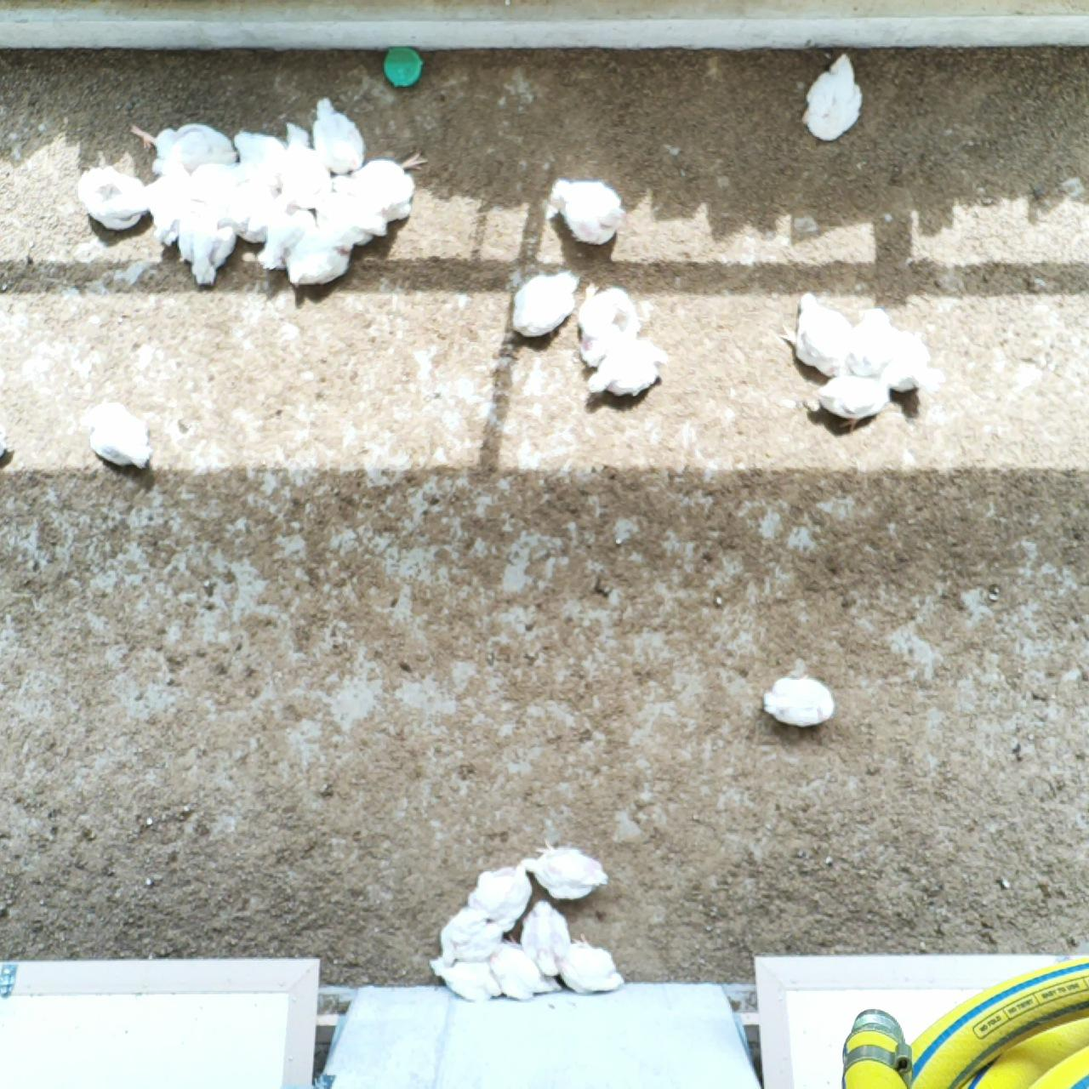chicken: (846, 305, 949, 399), (799, 365, 903, 436), (517, 835, 614, 905), (336, 149, 433, 217), (801, 50, 869, 146), (777, 287, 850, 376), (76, 393, 158, 471), (547, 175, 631, 247), (577, 280, 644, 370), (176, 193, 239, 288), (128, 119, 241, 170), (142, 144, 196, 247), (508, 268, 580, 343), (508, 894, 572, 978), (585, 335, 672, 396), (277, 122, 335, 209), (465, 859, 533, 932), (555, 932, 626, 998), (313, 190, 391, 250), (78, 164, 146, 230), (253, 204, 318, 273), (284, 227, 352, 291), (438, 904, 506, 968), (761, 673, 837, 730), (488, 937, 551, 1005), (424, 953, 503, 1007), (311, 95, 366, 171), (226, 177, 282, 243), (231, 127, 288, 185), (187, 162, 237, 206)
